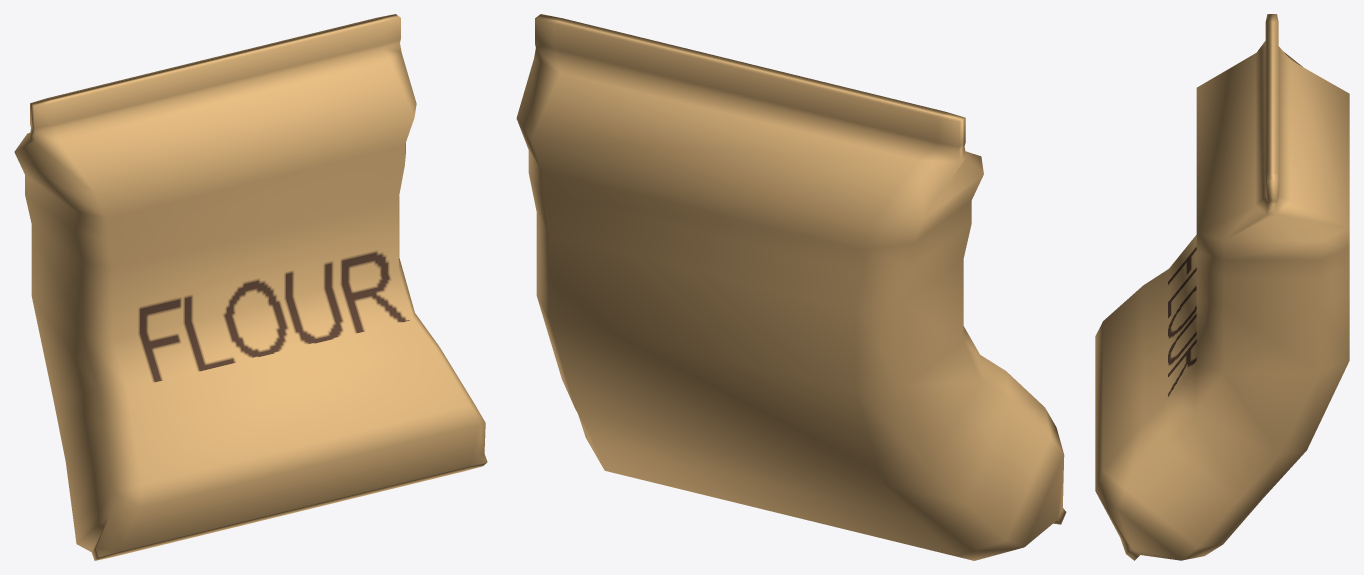
The model's file is tepung.fbx.
3 views of the same model, side by side, from view 1: azimuth 30°, elevation 25°; view 2: azimuth 150°, elevation 25°; view 3: azimuth 270°, elevation 25° (orthographic). The views are drawn at different scales.
Parts seen in each view (by area): view 1: Cube.001; view 2: Cube.001; view 3: Cube.001.
Boxes of the visible parts, left/top/right/bottom form: Cube.001: left=14, top=14, right=487, bottom=560; Cube.001: left=516, top=14, right=1066, bottom=560; Cube.001: left=1095, top=14, right=1349, bottom=560.
Size of the model in its own units: 226 by 229 by 136.
Materials: 1 (1 with a texture image).
